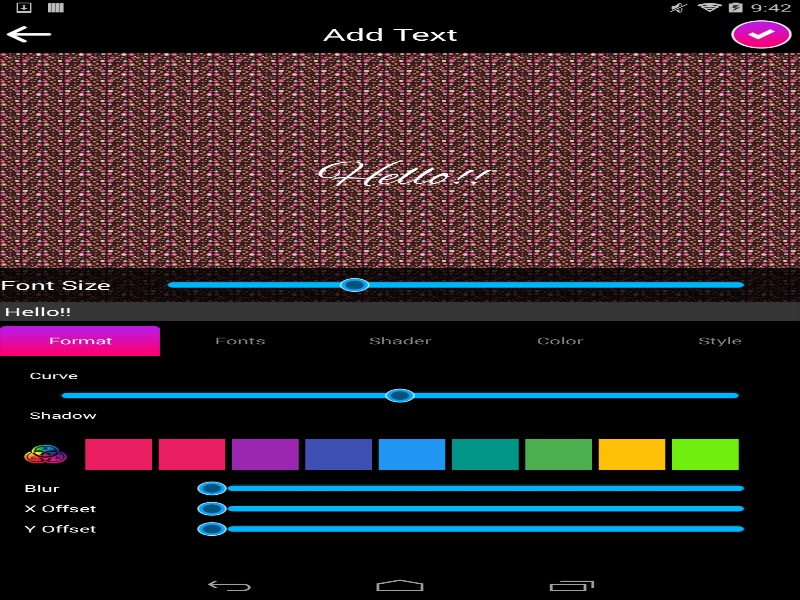Button: (0, 325, 160, 355), (160, 325, 320, 355), (320, 325, 480, 355), (480, 325, 640, 355), (640, 325, 800, 355)
Input: (0, 302, 800, 320)
